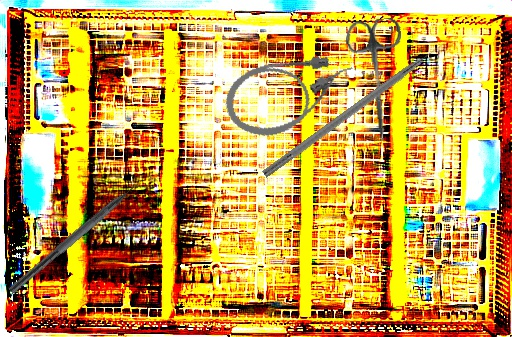Cannula: (217, 43, 364, 146)
Chopper: (7, 173, 154, 304)
Hook Surgical: (261, 40, 449, 181)
Iris Scissors: (344, 16, 412, 145)
